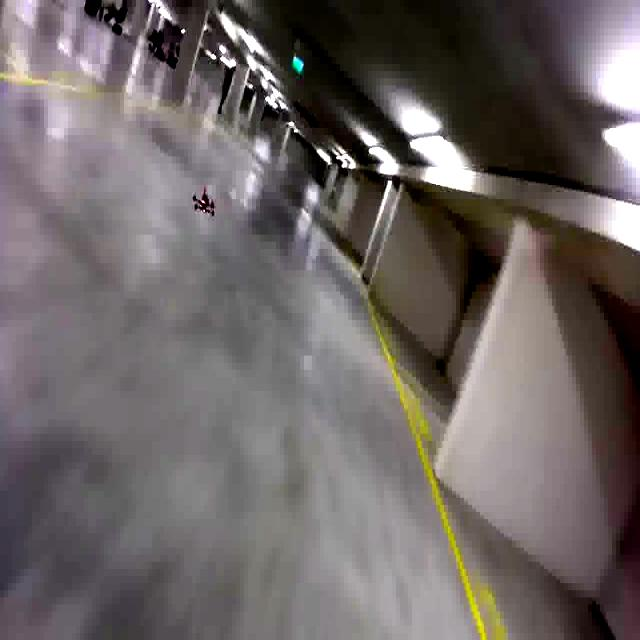drone: (186, 178, 219, 221)
